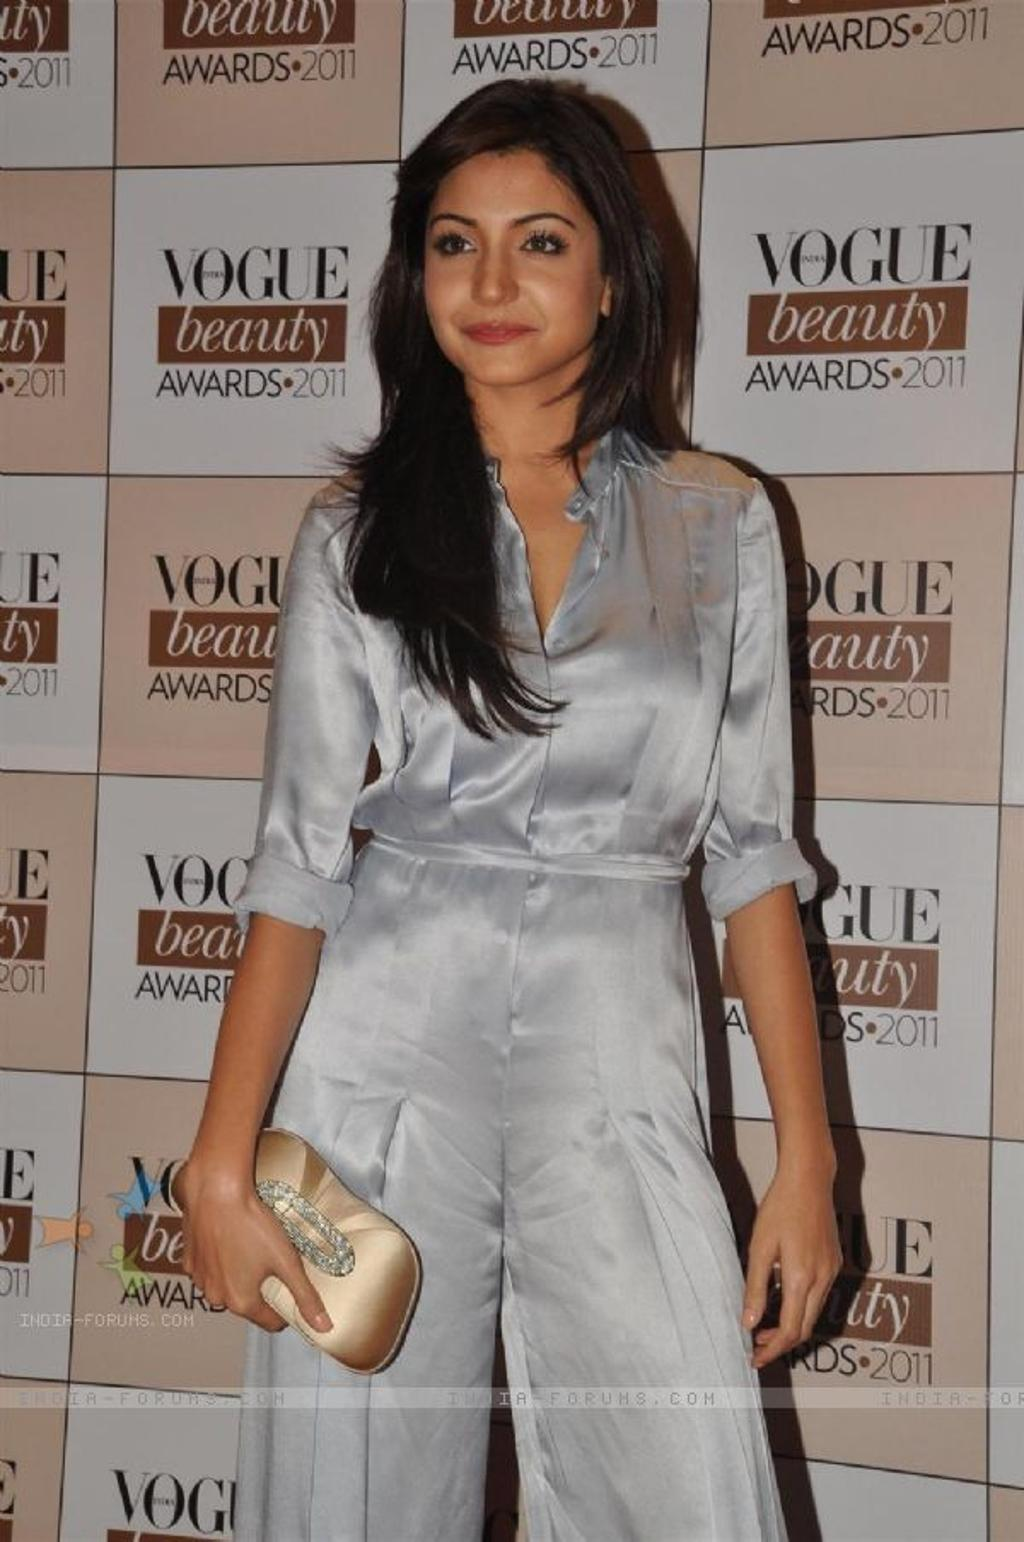face: (422, 142, 606, 383)
